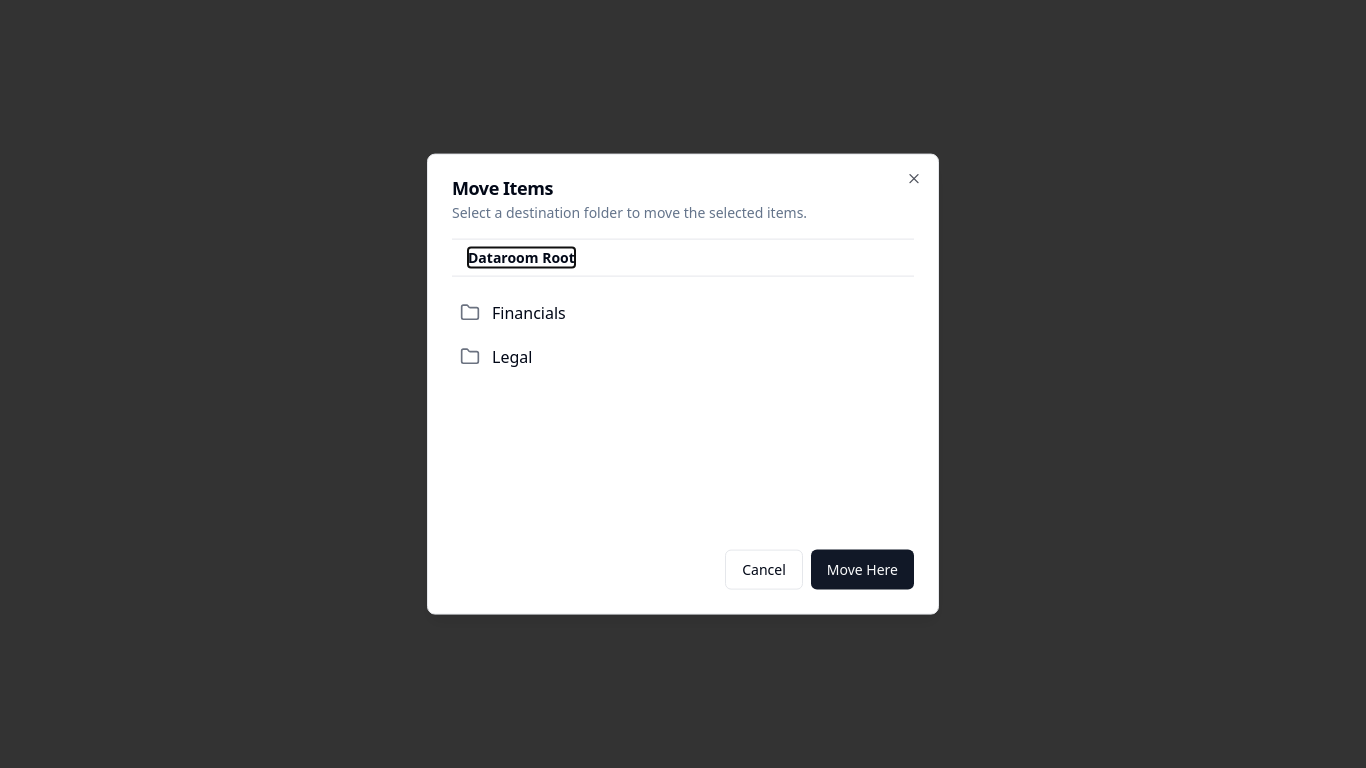
Test: DataroomMoveItemsDialog › displays "No subfolders" when a folder has no subfolders
Click the button "Financials": (529, 313) [452,293,906,333]
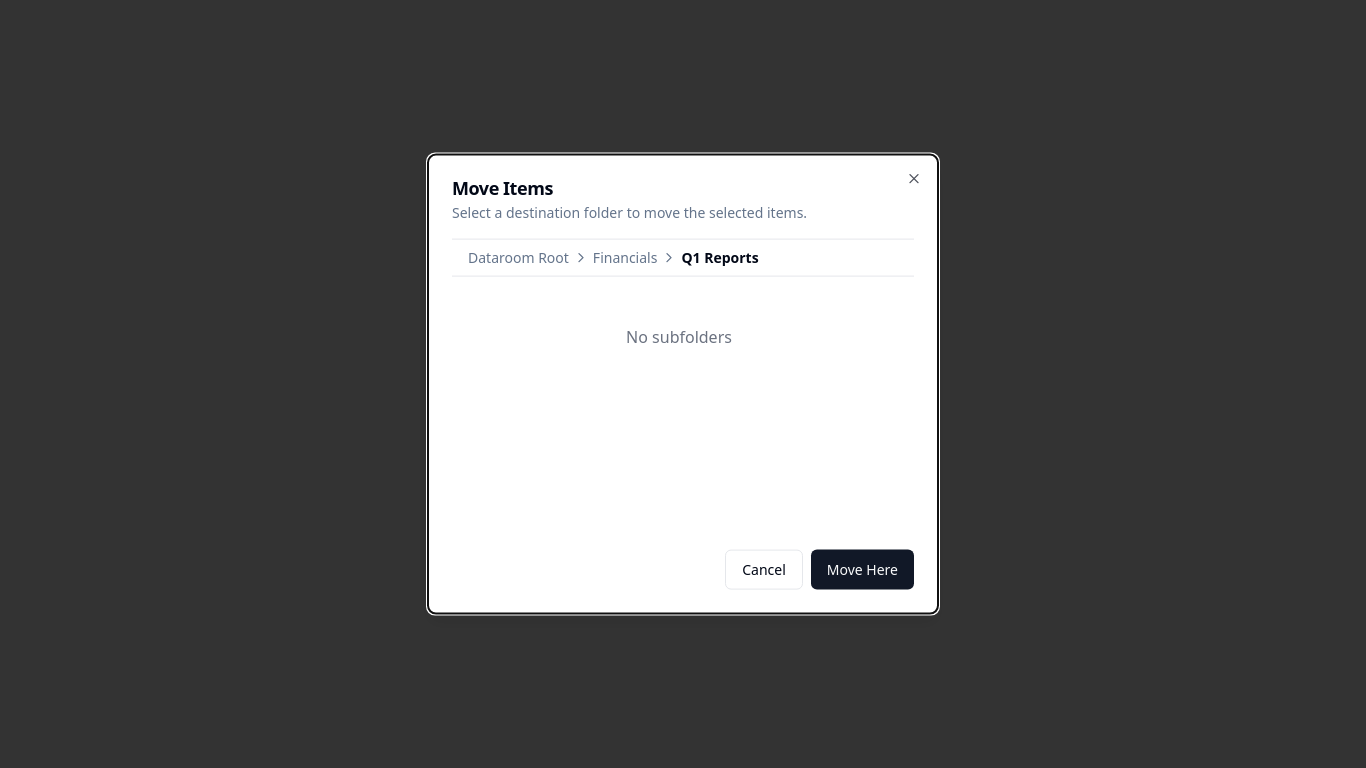
Expected: the text "No subfolders" is shown, [626,326,732,348]
